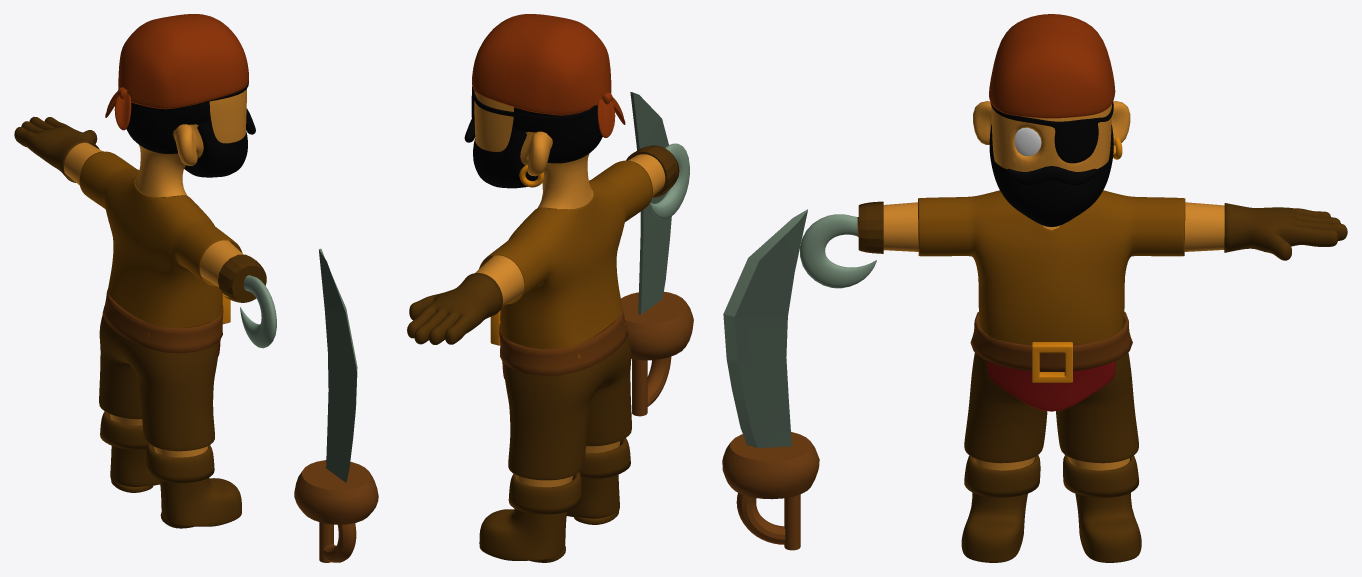
Rendered from Adventure1fbx.fbx.
The picture shows the model from 3 angles, left to right: view 1: azimuth 30°, elevation 25°; view 2: azimuth 150°, elevation 25°; view 3: azimuth 270°, elevation 25°; orthographic projection. The views are drawn at different scales.
Visible parts, largest first — view 1: Cube.030, Cube.031, Cube.037, Cube.003, Cube.042, Cube.039, Cube.035, Cube.040, Cube.032, Cube.033, Cube.034, Cube.001 (+2 smaller); view 2: Cube.030, Cube.031, Cube.037, Cube.003, Cube.033, Cube.035, Cube.034, Cube.039, Cube.040, Cube.032, Cube.042, Torus.002 (+3 smaller); view 3: Cube.030, Cube.003, Cube.039, Cube.031, Cube.037, Cube.042, Cube.033, Cube.034, Cube.040, Cube.035, Cube.032, Circle.001 (+4 smaller).
Boxes of the visible parts, <box> form: Cube.030: <box>79,151,242,356</box>; Cube.031: <box>99,315,219,451</box>; Cube.037: <box>118,14,248,109</box>; Cube.003: <box>64,89,276,457</box>; Cube.042: <box>146,443,241,528</box>; Cube.039: <box>319,248,357,482</box>; Cube.035: <box>126,101,247,177</box>; Cube.040: <box>294,460,378,524</box>; Cube.032: <box>102,289,223,353</box>; Cube.033: <box>100,411,160,492</box>; Cube.034: <box>14,117,99,182</box>; Cube.001: <box>218,254,266,302</box>; Cube.030: <box>479,160,652,378</box>; Cube.031: <box>503,335,631,480</box>; Cube.037: <box>472,14,611,115</box>; Cube.003: <box>474,91,689,487</box>; Cube.033: <box>479,472,581,562</box>; Cube.035: <box>473,107,602,188</box>; Cube.034: <box>407,273,502,344</box>; Cube.039: <box>630,92,671,314</box>; Cube.040: <box>621,291,693,360</box>; Cube.032: <box>499,307,628,375</box>; Cube.042: <box>566,438,630,524</box>; Torus.002: <box>632,356,671,416</box>; Cube.030: <box>918,190,1185,411</box>; Cube.003: <box>800,101,1224,470</box>; Cube.039: <box>723,209,807,447</box>; Cube.031: <box>964,352,1138,463</box>; Cube.037: <box>989,14,1115,118</box>; Cube.042: <box>961,455,1040,562</box>; Cube.033: <box>1063,455,1141,562</box>; Cube.034: <box>1224,203,1347,260</box>; Cube.040: <box>722,432,819,499</box>; Cube.035: <box>989,124,1113,227</box>; Cube.032: <box>970,312,1132,371</box>; Circle.001: <box>990,101,1113,163</box>.
Bounding box in the file's own units: 25.2 × 85.38 × 92.12.
